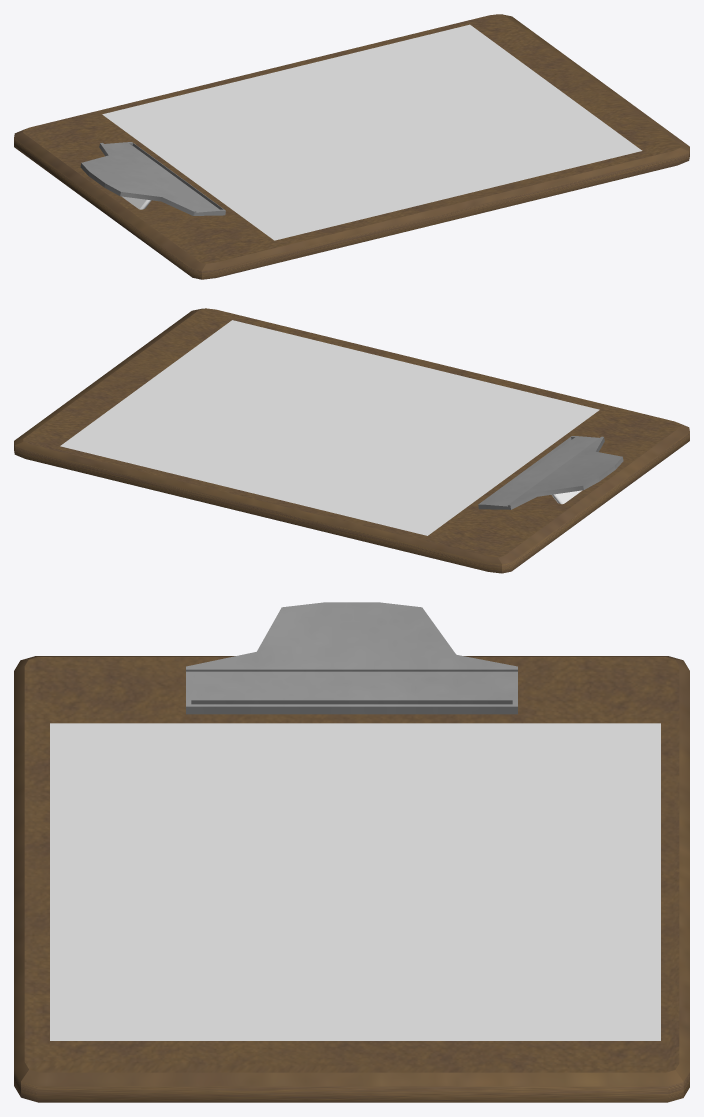
Rendered from Prancheta.fbx.
3 renders of one model, top to bottom at view 1: azimuth 30°, elevation 25°; view 2: azimuth 150°, elevation 25°; view 3: azimuth 270°, elevation 25°, orthographic. The views are drawn at different scales.
Visible parts, largest first — view 1: Plane, Cube, Cube.001; view 2: Plane, Cube, Cube.001; view 3: Plane, Cube, Cube.001.
Part boxes in pixels (bbox=[...]): Plane: bbox=[102, 24, 642, 240]; Cube: bbox=[14, 14, 689, 279]; Cube.001: bbox=[80, 142, 225, 215]; Plane: bbox=[60, 320, 599, 535]; Cube: bbox=[14, 308, 689, 573]; Cube.001: bbox=[478, 436, 623, 509]; Plane: bbox=[50, 723, 660, 1040]; Cube: bbox=[14, 656, 689, 1102]; Cube.001: bbox=[186, 602, 517, 714].
Size of the model in its own units: 1073 by 74.15 by 703.
Materials: 3 (2 with a texture image).
